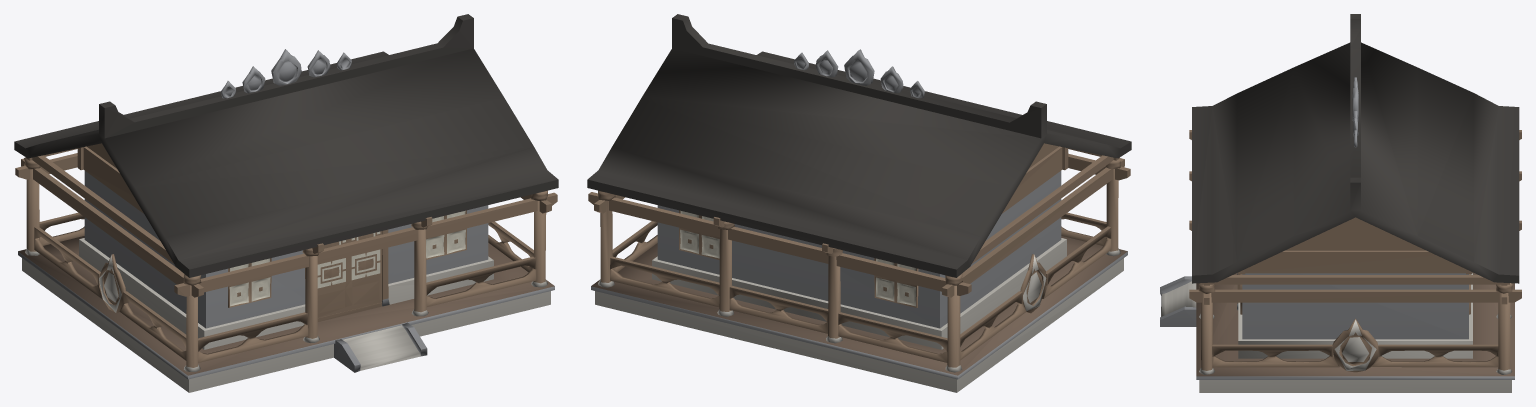
File: jp_house_1.glb
3 views of the same model, side by side, from view 1: azimuth 30°, elevation 25°; view 2: azimuth 150°, elevation 25°; view 3: azimuth 270°, elevation 25° (orthographic). The views are drawn at different scales.
Parts seen in each view (by area): view 1: jp_house_1; view 2: jp_house_1; view 3: jp_house_1.
Boxes of the visible parts, x1,y1,x2,y2 form: jp_house_1: (14,14,558,392); jp_house_1: (587,14,1131,392); jp_house_1: (1160,14,1521,392).
Bounding box in the file's own units: 10.5 × 6.28 × 9.25.
